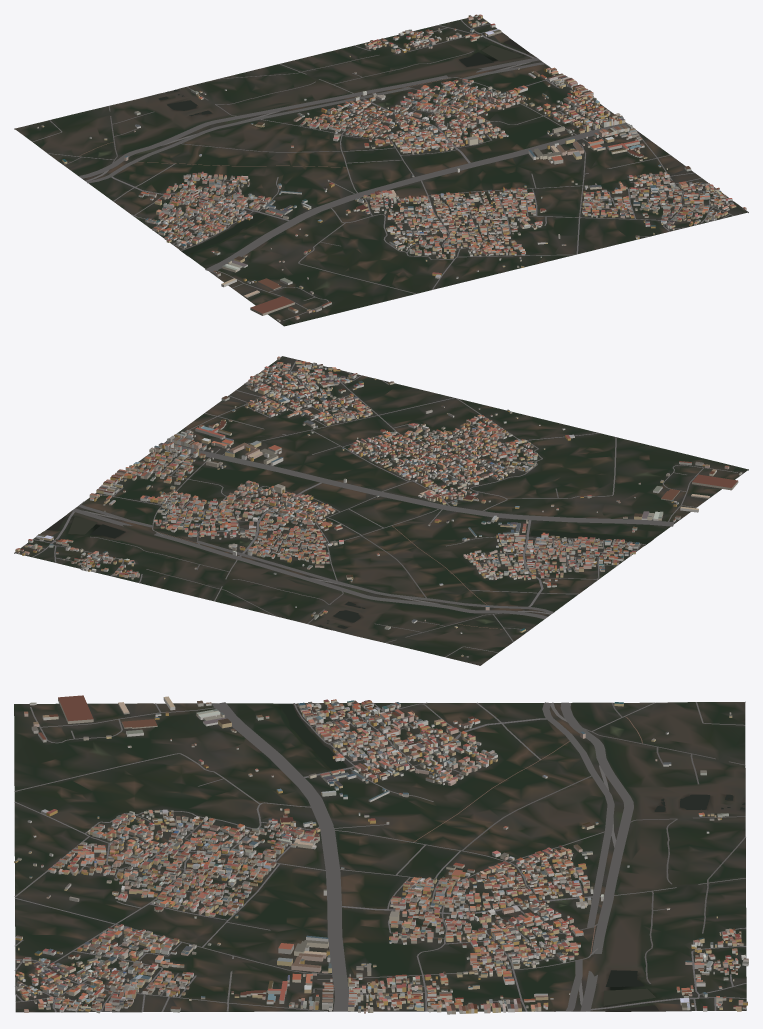
The picture shows the model from 3 angles, top to bottom: view 1: azimuth 30°, elevation 25°; view 2: azimuth 150°, elevation 25°; view 3: azimuth 270°, elevation 25°; orthographic projection. The views are drawn at different scales.
Parts seen in each view (by area): view 1: ground, buildings, roads, water; view 2: ground, buildings, roads, water; view 3: ground, buildings, roads, water.
Part boxes in pixels (<box>): ground: <box>14,15,748,326</box>; buildings: <box>37,14,746,321</box>; roads: <box>14,19,733,320</box>; water: <box>158,39,530,254</box>; ground: <box>14,356,748,665</box>; buildings: <box>15,356,742,657</box>; roads: <box>25,359,737,665</box>; water: <box>46,515,651,628</box>; ground: <box>14,702,746,1012</box>; buildings: <box>14,695,748,1014</box>; roads: <box>14,701,746,1012</box>; water: <box>278,703,745,1011</box>.
Size of the model in its own units: 1436 by 23.61 by 1409.
